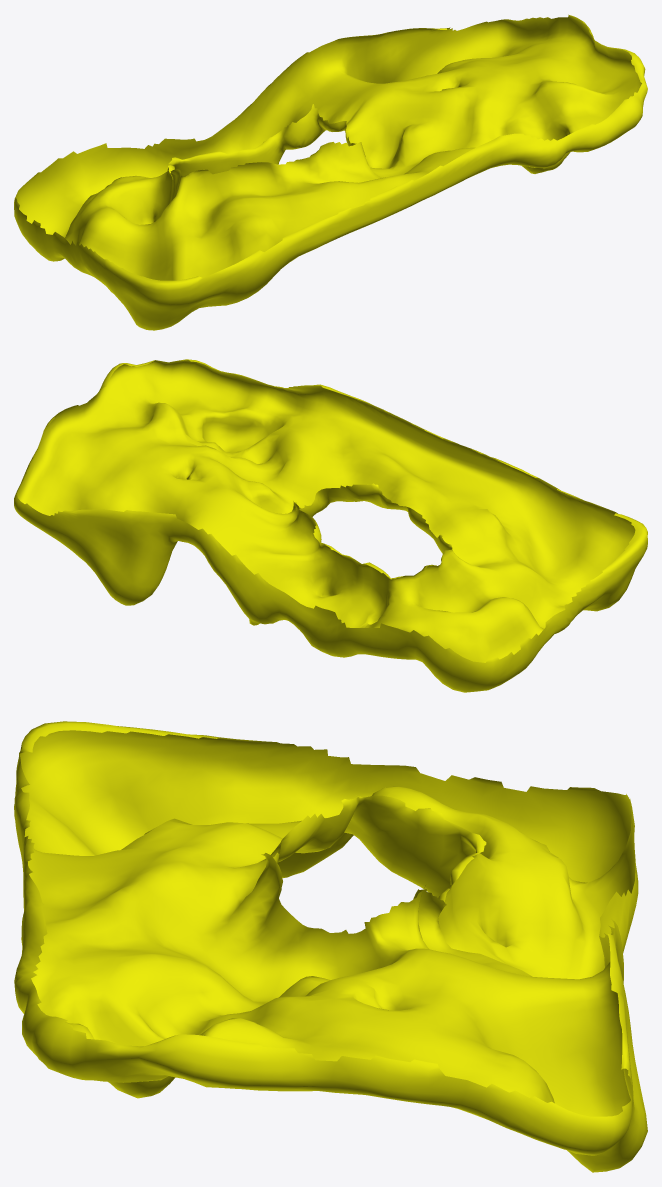
Rendered from Toit_Hub_LOW.fbx.
The picture shows the model from 3 angles, top to bottom: view 1: azimuth 30°, elevation 25°; view 2: azimuth 150°, elevation 25°; view 3: azimuth 270°, elevation 25°; orthographic projection. The views are drawn at different scales.
Parts seen in each view (by area): view 1: Toit_Hub_LOW; view 2: Toit_Hub_LOW; view 3: Toit_Hub_LOW.
Part boxes in pixels (x1,y1,x2,y2): Toit_Hub_LOW: (14,14,647,330); Toit_Hub_LOW: (14,359,647,692); Toit_Hub_LOW: (14,721,647,1172).
Bounding box in the file's own units: 6256 × 1677 × 3592.
